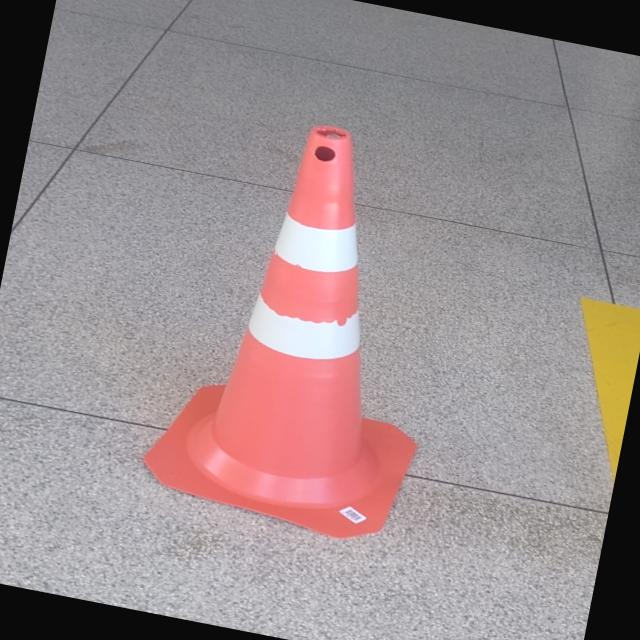cone: (117, 81, 512, 559)
